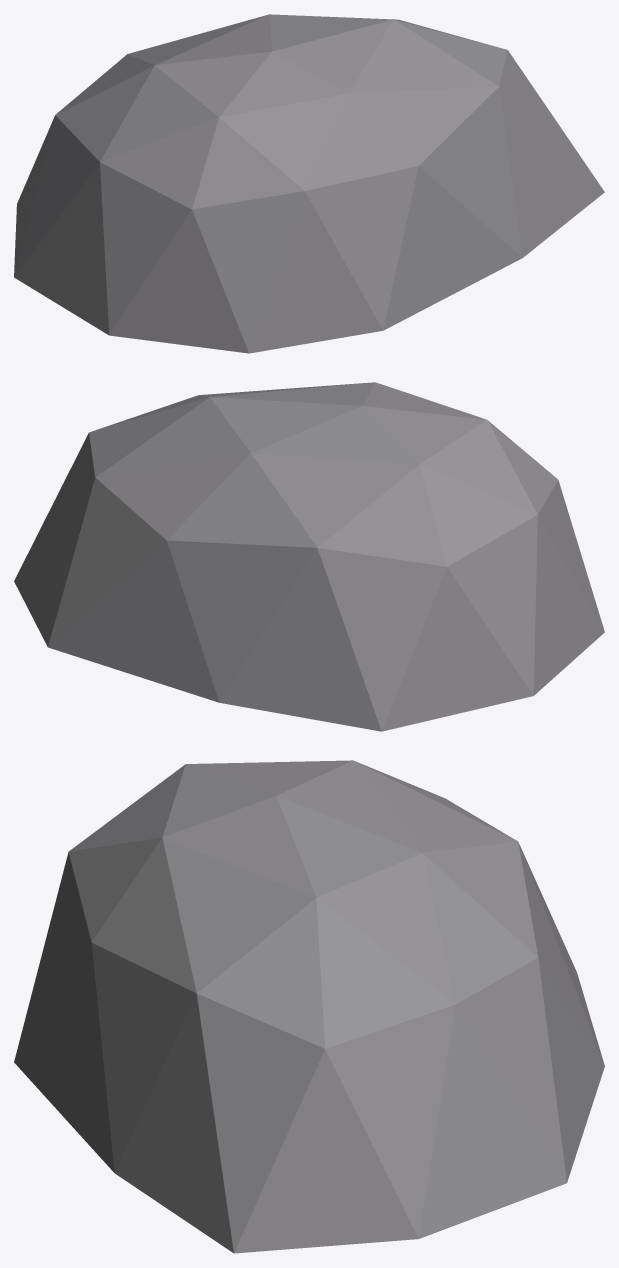
File: Rock_Round_s_02.fbx
3 renders of one model, top to bottom at view 1: azimuth 30°, elevation 25°; view 2: azimuth 150°, elevation 25°; view 3: azimuth 270°, elevation 25°, orthographic. The views are drawn at different scales.
Visible parts, largest first — view 1: Rock_Round_s_02; view 2: Rock_Round_s_02; view 3: Rock_Round_s_02.
Boxes of the visible parts, bbox=[...] form: Rock_Round_s_02: bbox=[14, 14, 604, 353]; Rock_Round_s_02: bbox=[14, 382, 604, 731]; Rock_Round_s_02: bbox=[14, 760, 604, 1253].
Bounding box in the file's own units: 55.81 × 20.78 × 42.34.
